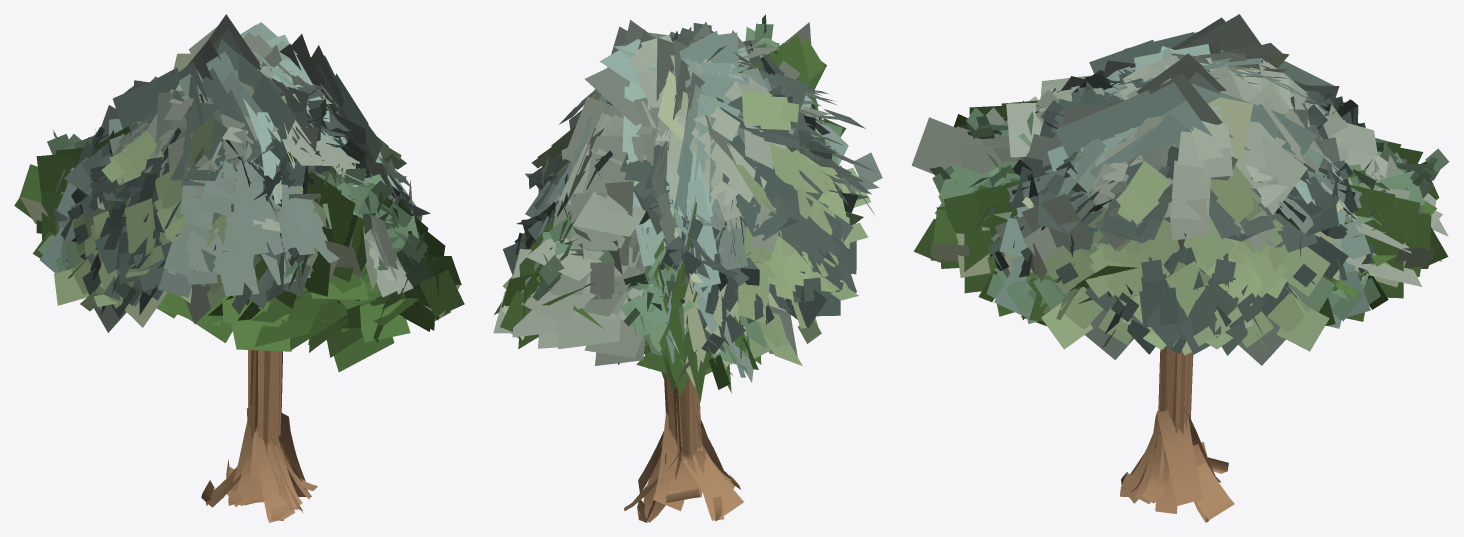
The model's file is albero_città.fbx.
The picture shows the model from 3 angles, left to right: view 1: azimuth 30°, elevation 25°; view 2: azimuth 150°, elevation 25°; view 3: azimuth 270°, elevation 25°; orthographic projection. The views are drawn at different scales.
Parts seen in each view (by area): view 1: brush_ThickPaint_g68_b0; view 2: brush_ThickPaint_g68_b0; view 3: brush_ThickPaint_g68_b0.
Part boxes in pixels (x1=…): brush_ThickPaint_g68_b0: x1=14, y1=14, x2=464, y2=522; brush_ThickPaint_g68_b0: x1=493, y1=14, x2=882, y2=522; brush_ThickPaint_g68_b0: x1=911, y1=14, x2=1448, y2=522.
Size of the model in its own units: 28.81 by 41.55 by 41.14.
